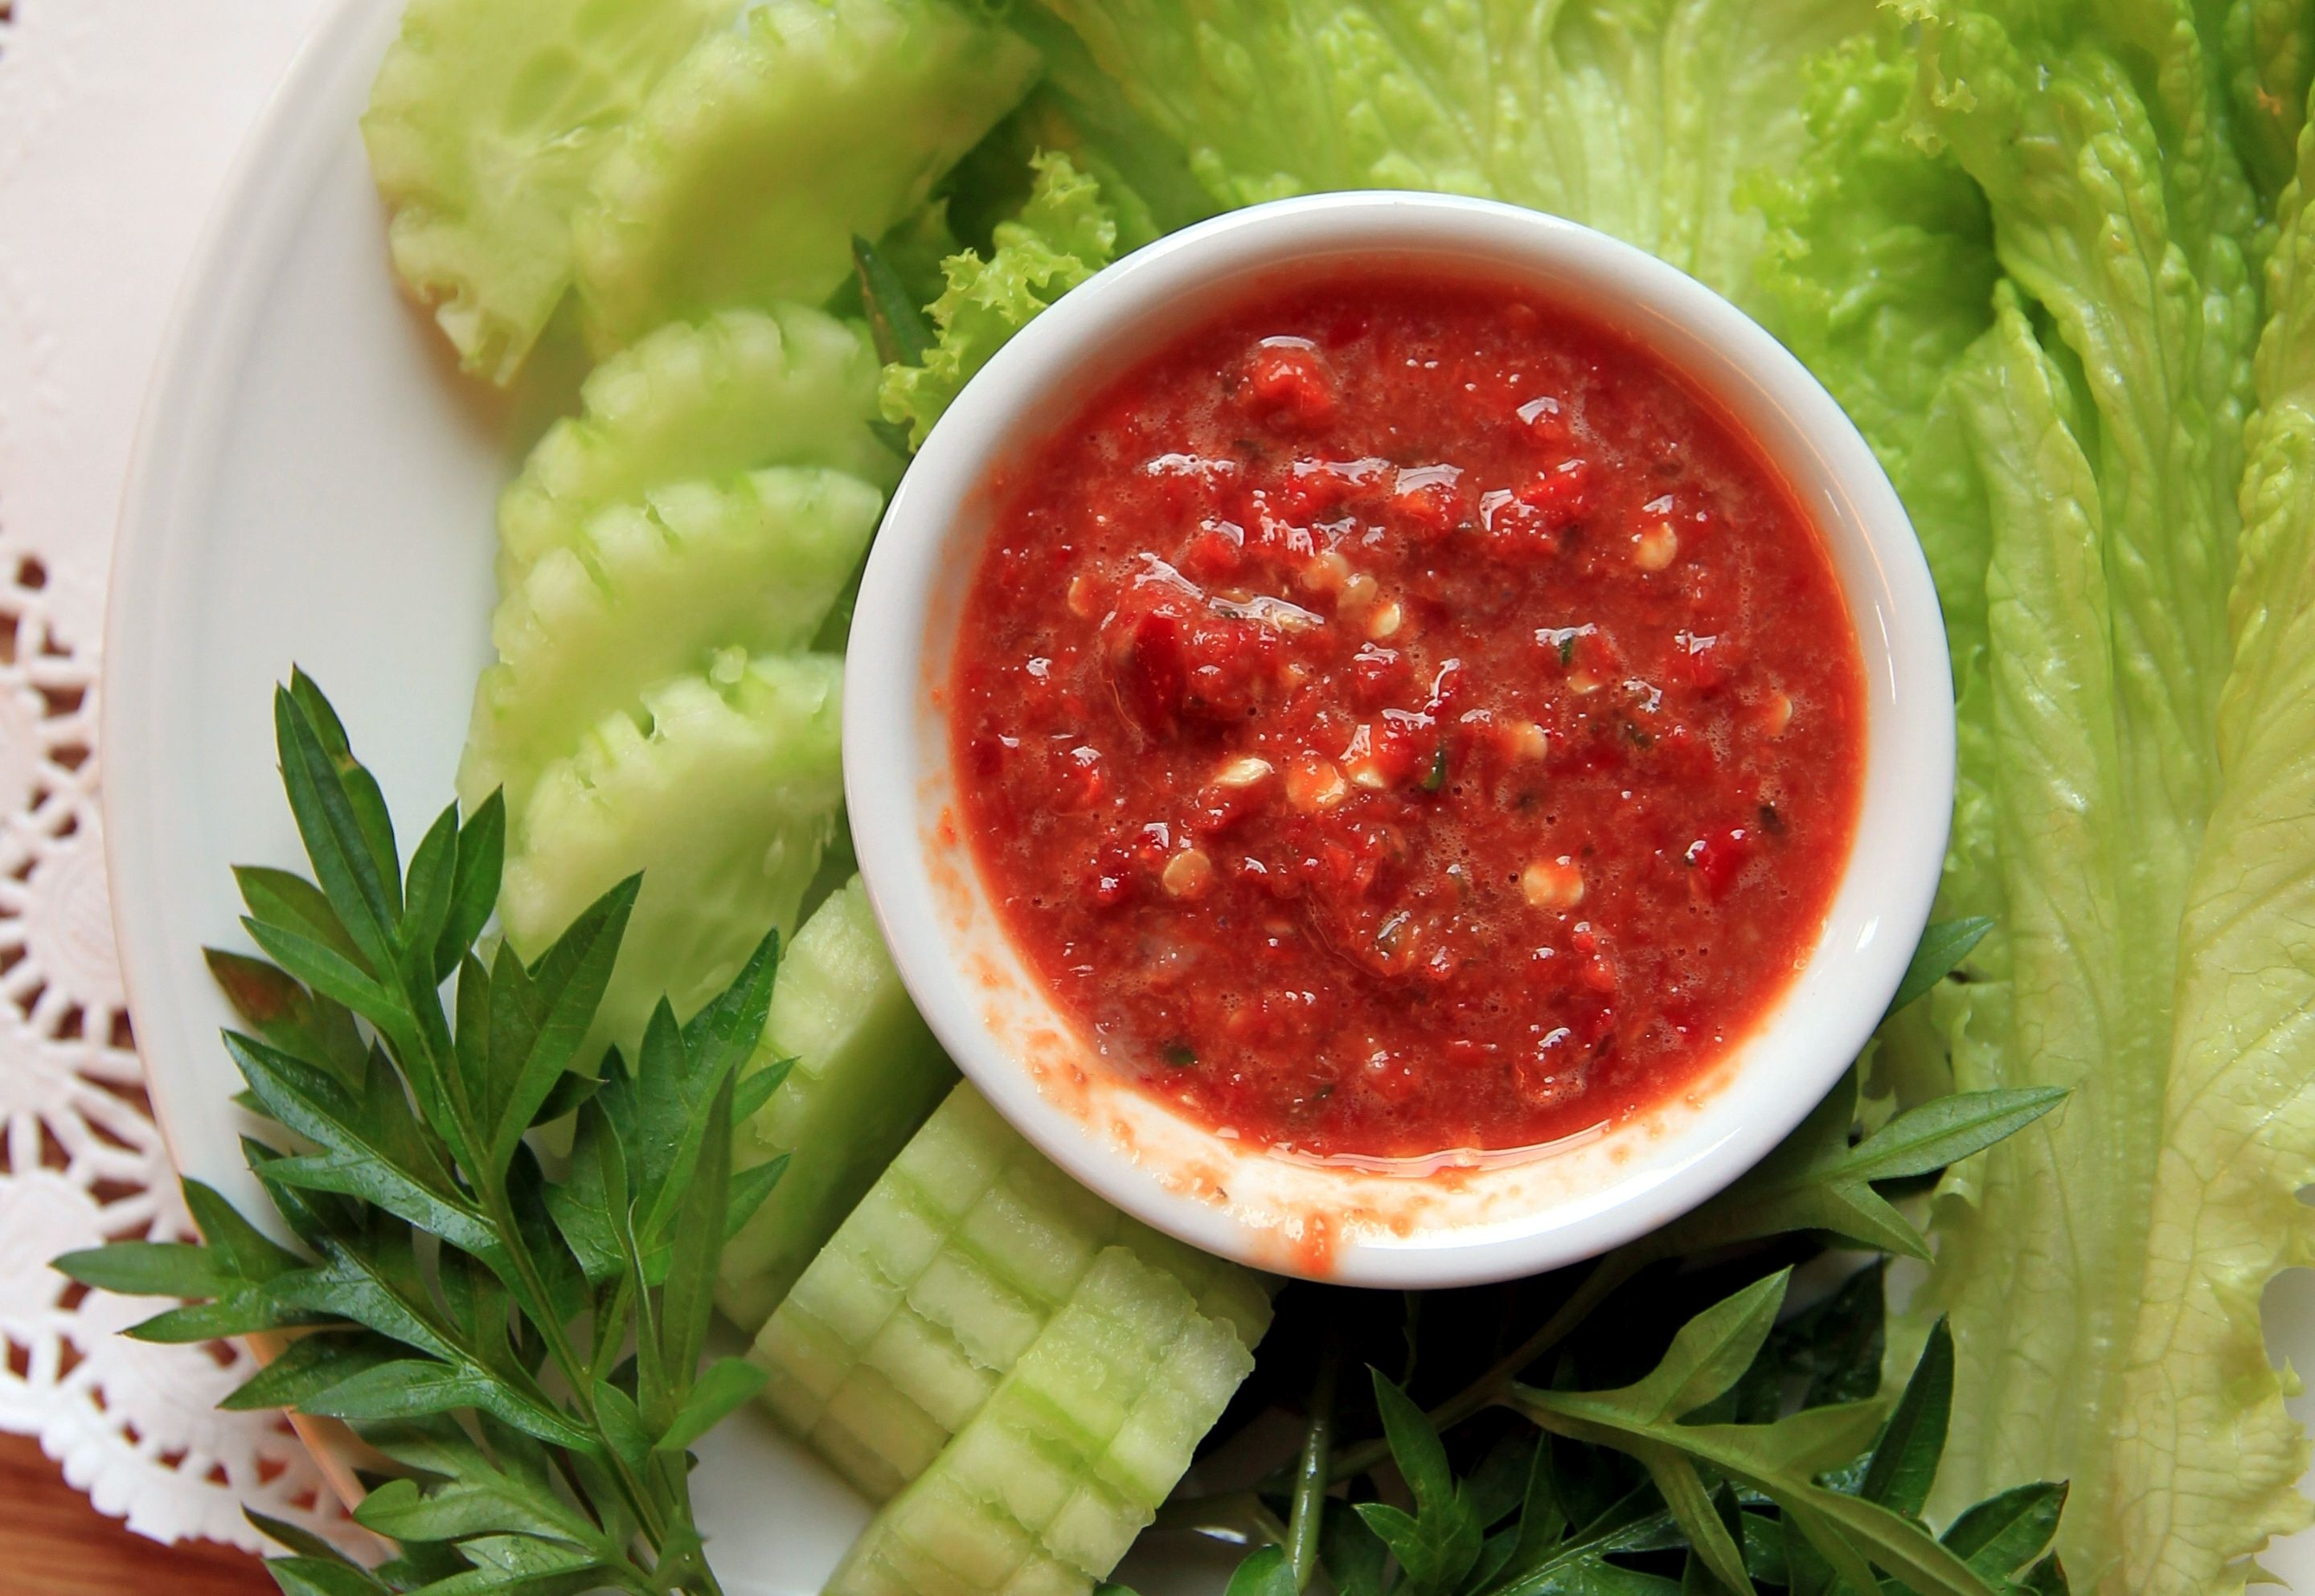sambal: (990, 329, 1835, 1135)
